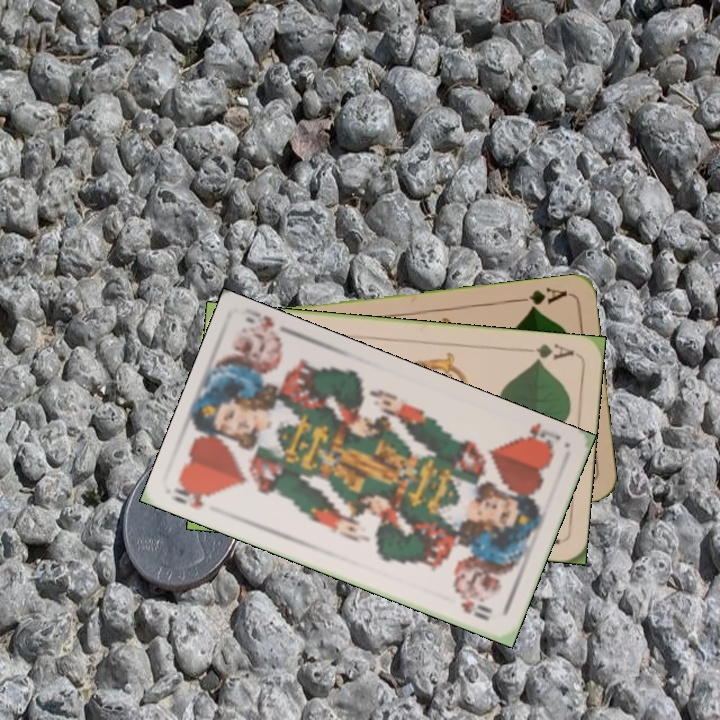GA: (511, 284, 570, 313), (518, 339, 577, 365)
HO: (514, 419, 564, 455), (169, 478, 214, 511)
